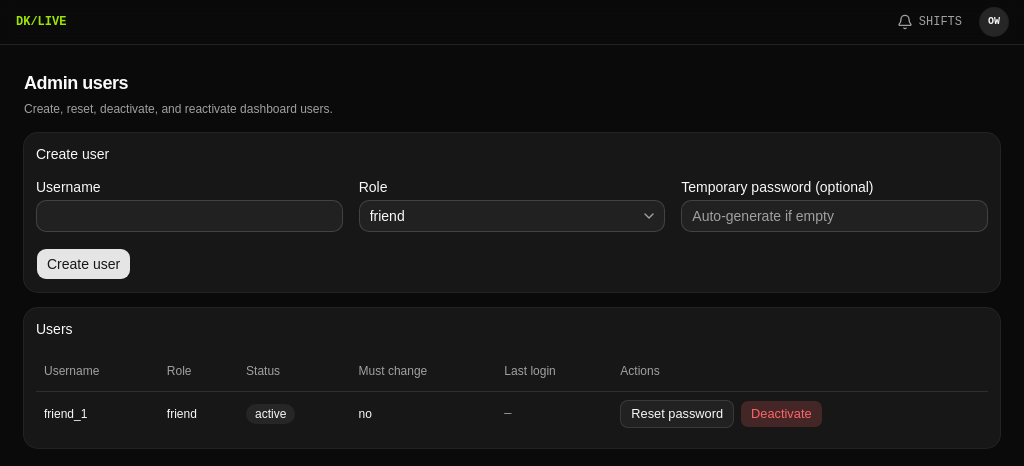
Test: deactivates and reactivates a user from the users table
Check: the table is shown, box [36,352,988,436]
Check: the button "Reset password" is shown, box [620,400,734,428]
Step 1. Click the button "Deactivate" → x=781, y=414, box [740,400,823,428]
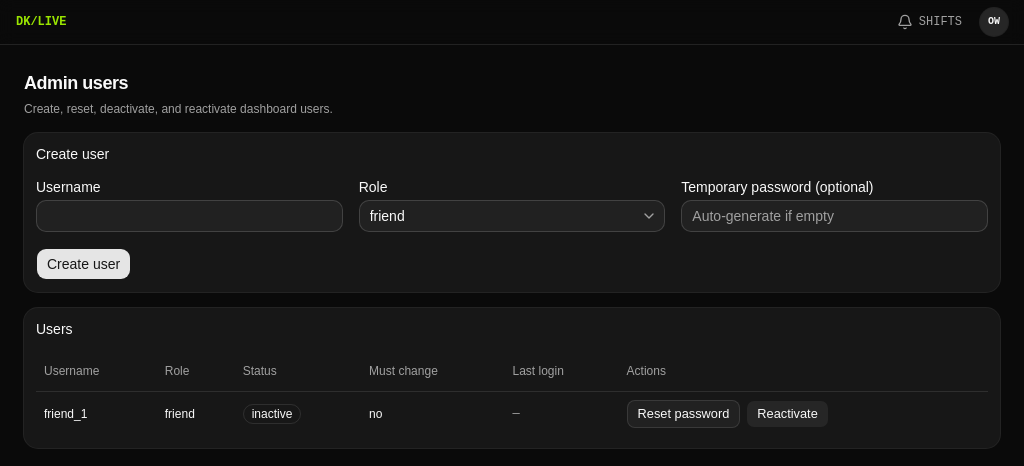
Step 2. Click the button "Reactivate" → x=788, y=414, box [746,400,829,428]
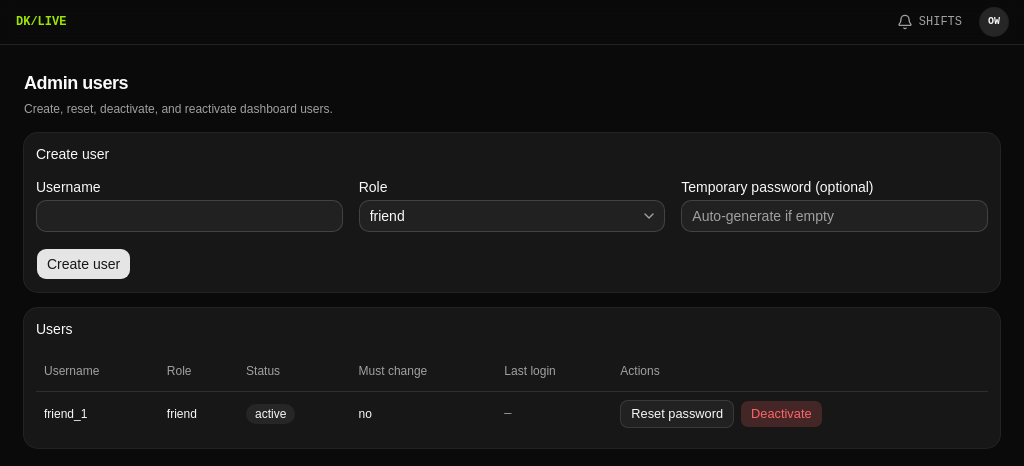
Check: the button "Deactivate" is shown, box [740,400,823,428]
